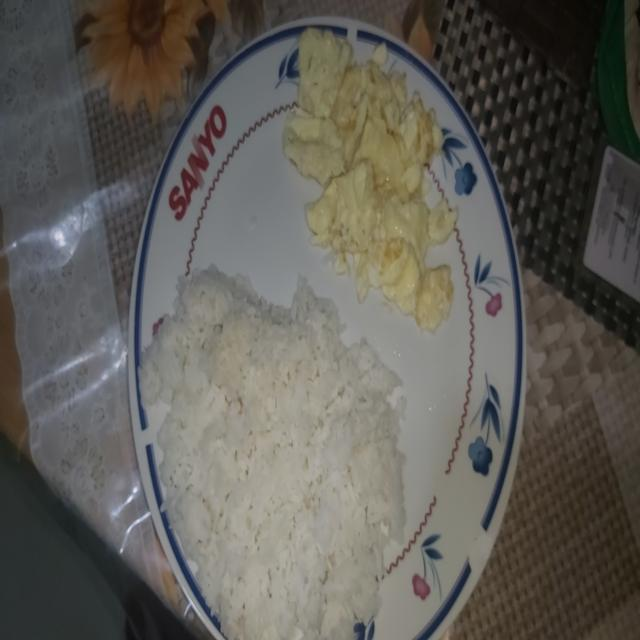Chicken -Chicken Inasal-: (153, 255, 406, 640)
